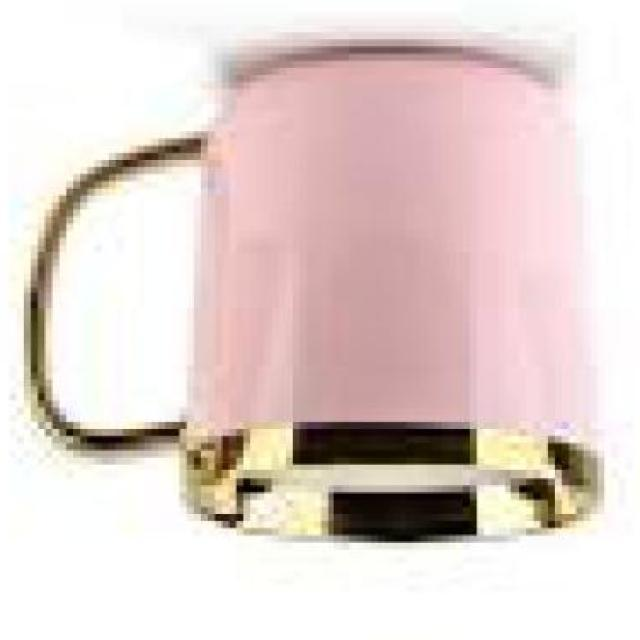cup: (9, 40, 618, 556)
